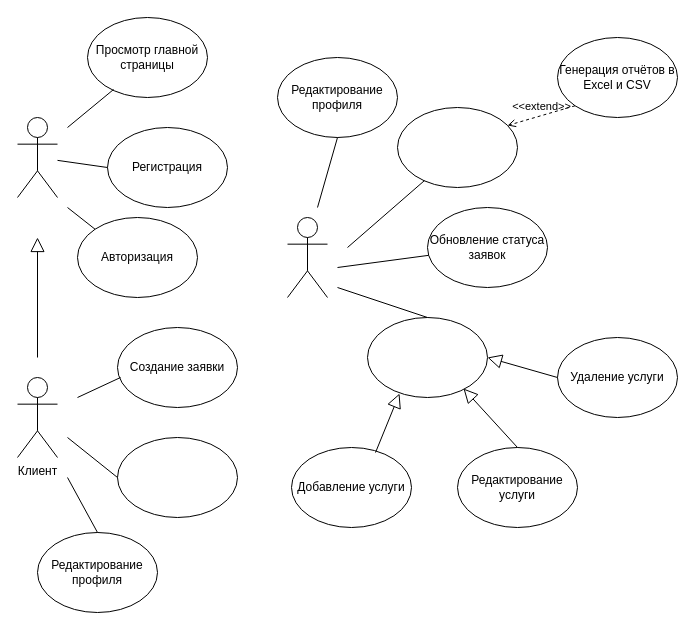
Some shapes in this 695 by 630 pixel diagram are drawn without their labels. The centre of each missing label's shape, as x and y in pixels:
"Администратор" goes at (307,257).
"Гость" goes at (37,157).
"Просмотр всех заявок" goes at (457,147).
"Просмотр заявок" goes at (177,477).
"Управление списком услуг" goes at (427,357).
